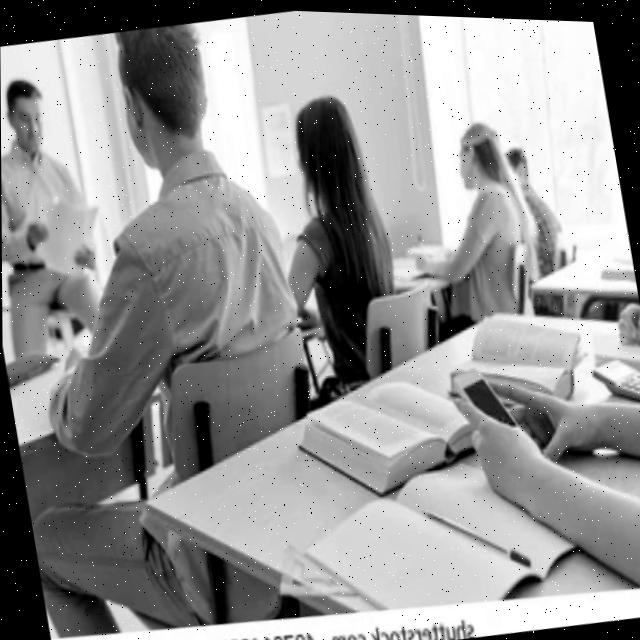phone: (448, 353, 523, 432), (589, 343, 640, 408)
